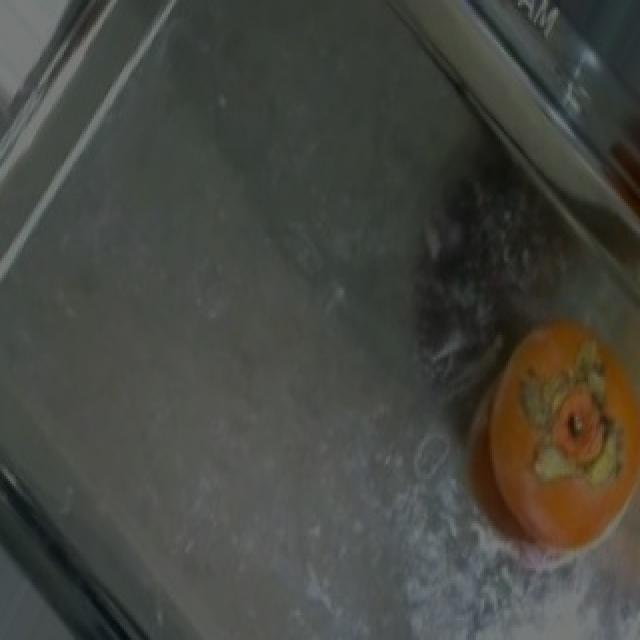Fruit: (446, 296, 636, 590)
